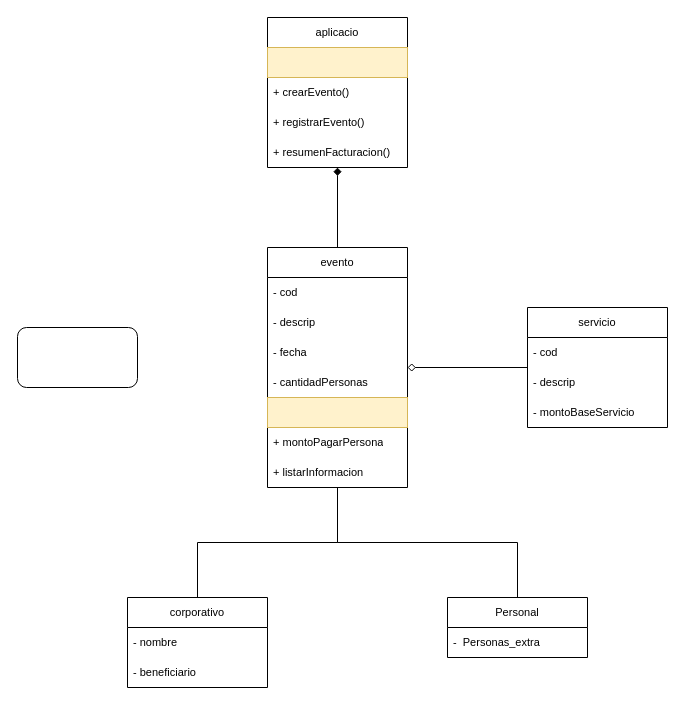
Image size: 685x705. Some labels were removed from this diagram. The centre of each missing label's shape, as x and y in pixels:
- cantidad_servicios: (337,412)
- mesEventos: (337,62)
montoPa: (77,357)
